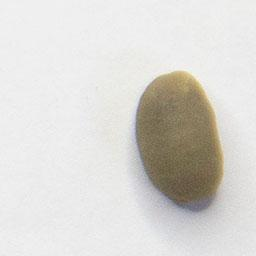peaberry: (132, 66, 228, 208)
